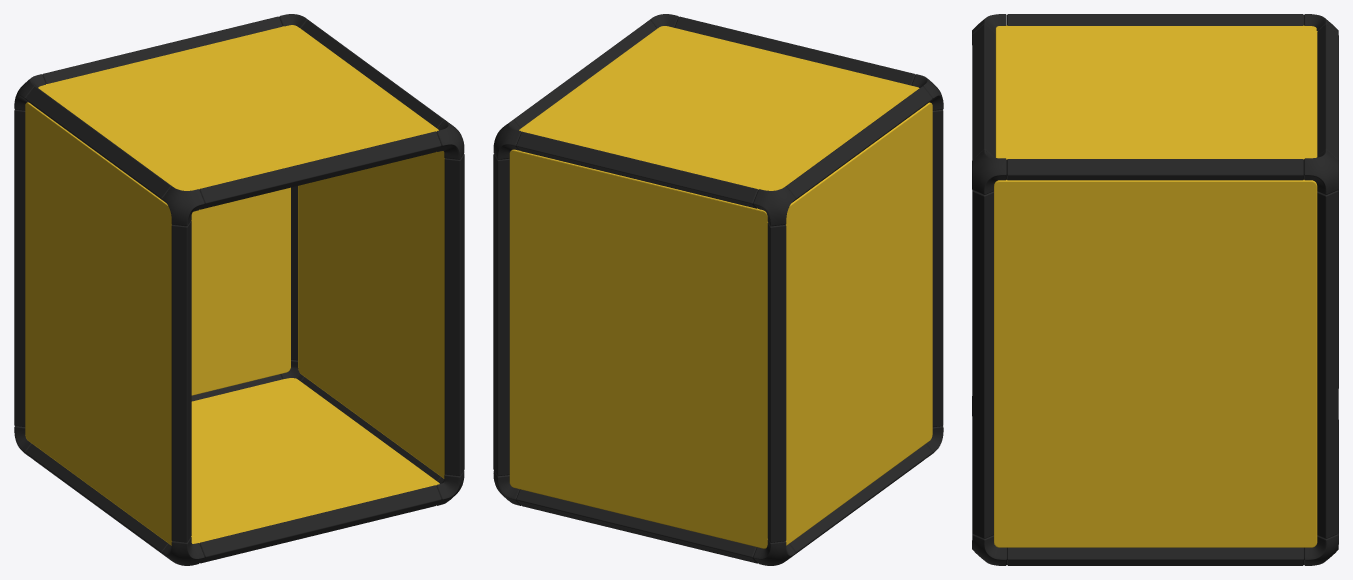
The picture shows the model from 3 angles, left to right: view 1: azimuth 30°, elevation 25°; view 2: azimuth 150°, elevation 25°; view 3: azimuth 270°, elevation 25°; orthographic projection. The views are drawn at different scales.
Parts seen in each view (by area): view 1: 329x329x420; view 2: 329x329x420; view 3: 329x329x420.
Part boxes in pixels (bbox=[...]): 329x329x420: bbox=[14, 14, 464, 565]; 329x329x420: bbox=[493, 14, 943, 565]; 329x329x420: bbox=[972, 14, 1338, 565].
Bounding box in the file's own units: 0.4067 × 0.4976 × 0.4062.
